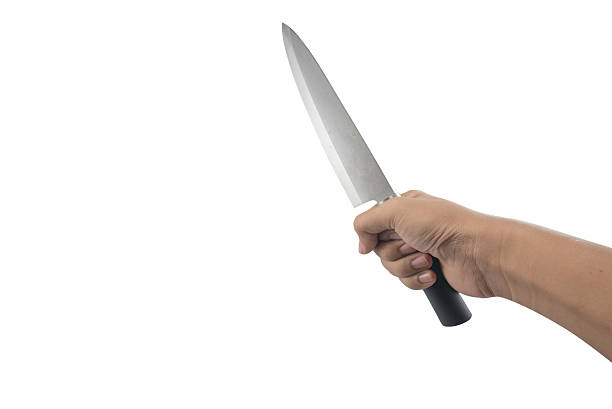knife: (280, 20, 473, 327)
